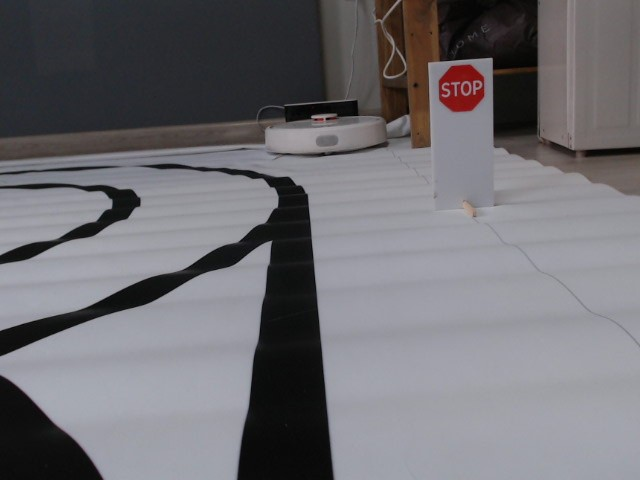Stop: (437, 63, 485, 114)
